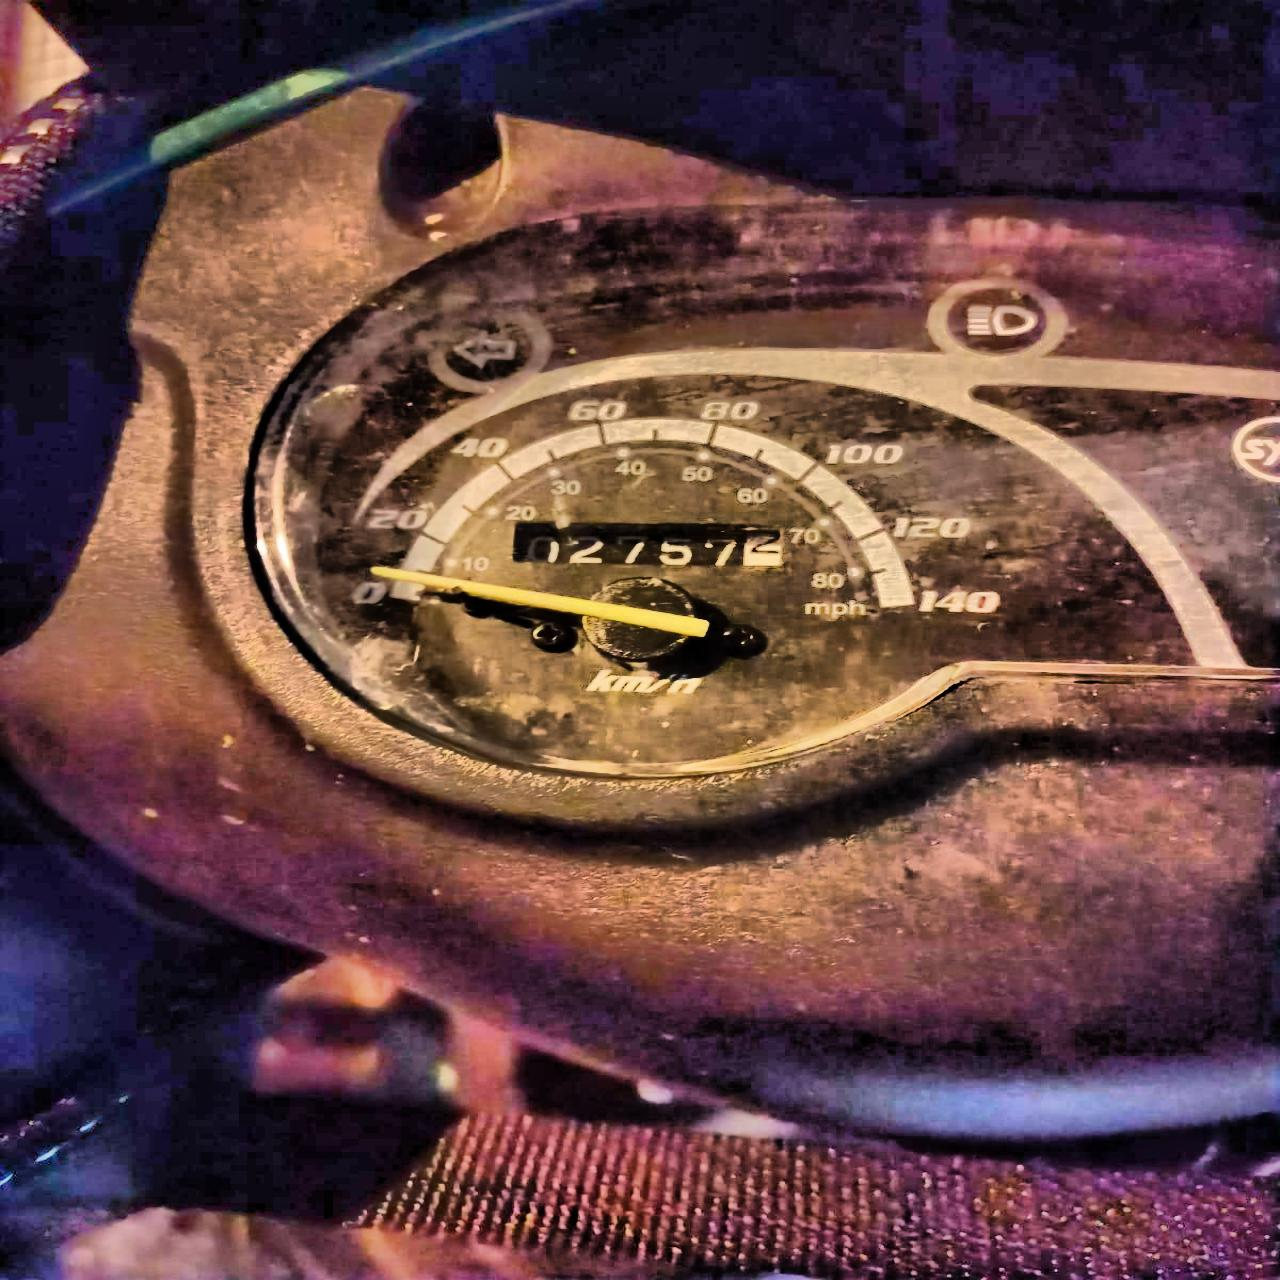0: (522, 533, 564, 568)
2: (564, 533, 605, 566), (747, 526, 782, 560)
5: (655, 531, 694, 566)
7: (702, 531, 738, 566), (612, 532, 648, 567)
odometer: (508, 518, 788, 577)
